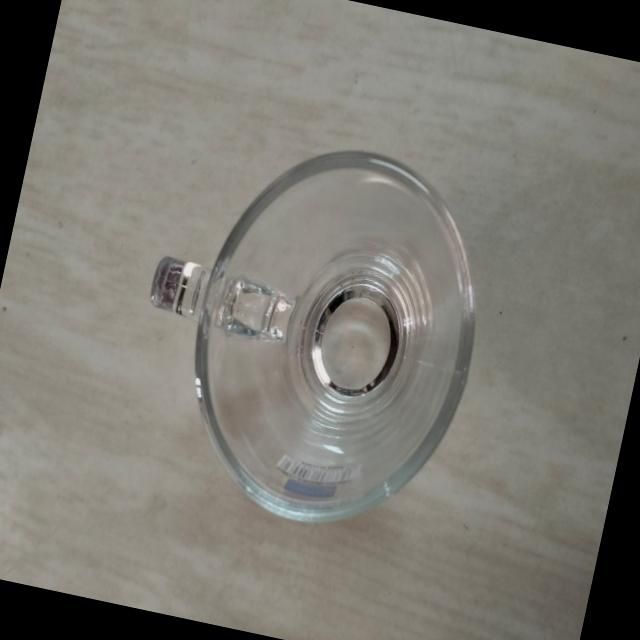glass-VX4N: (108, 109, 510, 574)
